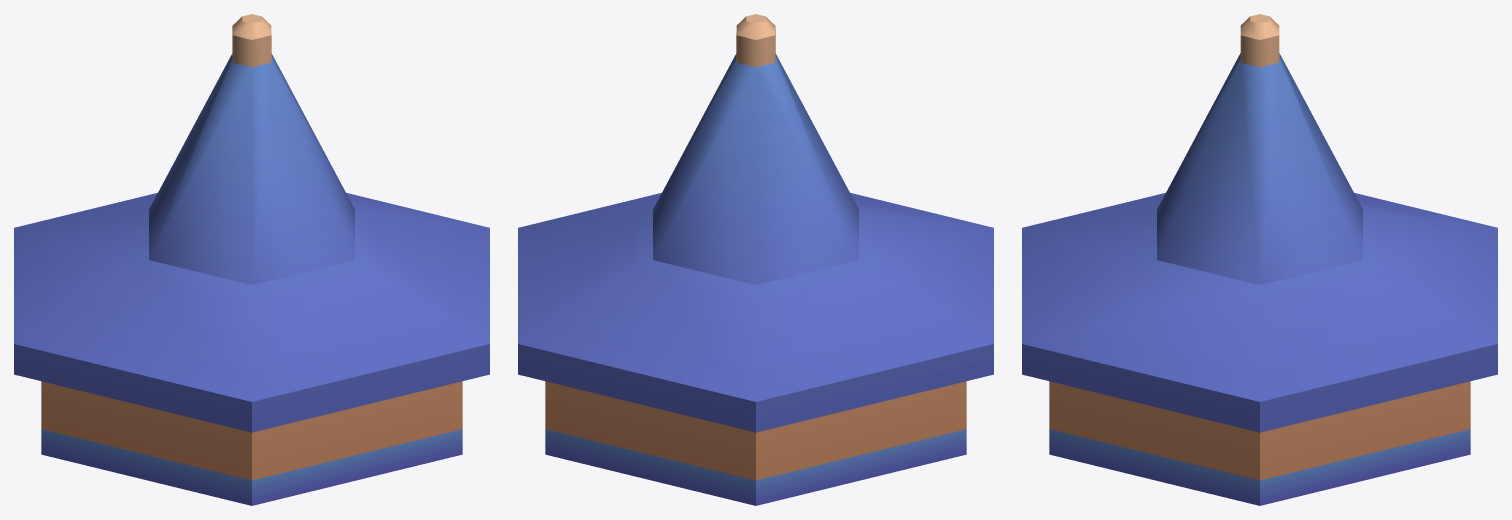
File: kenney-castle-tower-hexagon-roof-secondary.glb
The picture shows the model from 3 angles, left to right: view 1: azimuth 30°, elevation 25°; view 2: azimuth 150°, elevation 25°; view 3: azimuth 270°, elevation 25°; orthographic projection.
Parts seen in each view (by area): view 1: tower-hexagon-roof-secondary; view 2: tower-hexagon-roof-secondary; view 3: tower-hexagon-roof-secondary.
Part boxes in pixels (x1,y1,x2,y2): tower-hexagon-roof-secondary: [14, 14, 489, 505]; tower-hexagon-roof-secondary: [518, 14, 993, 505]; tower-hexagon-roof-secondary: [1022, 14, 1497, 505].
Bounding box in the file's own units: 0.9763 × 0.7537 × 0.8456.
Materials: 1 (1 with a texture image).
